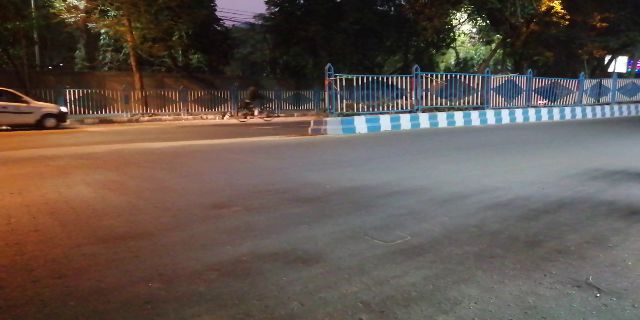Car: (5, 86, 75, 134)
Cycle: (228, 85, 283, 122)
